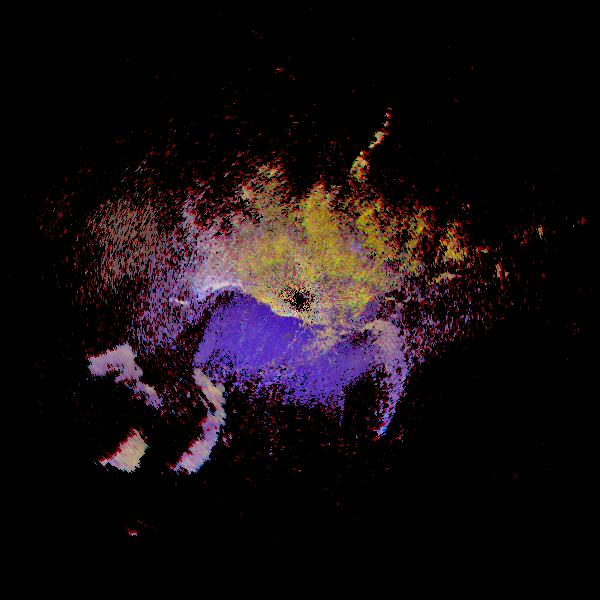roost: (83, 338, 242, 497), (26, 332, 182, 488)
